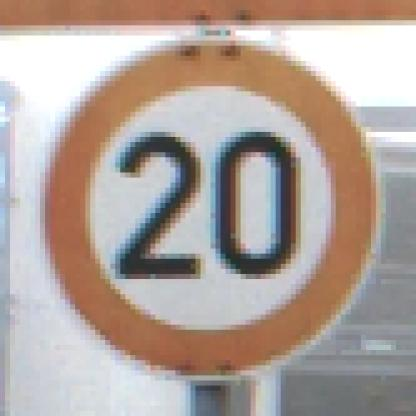Speed Limit 20: (49, 42, 382, 373)
